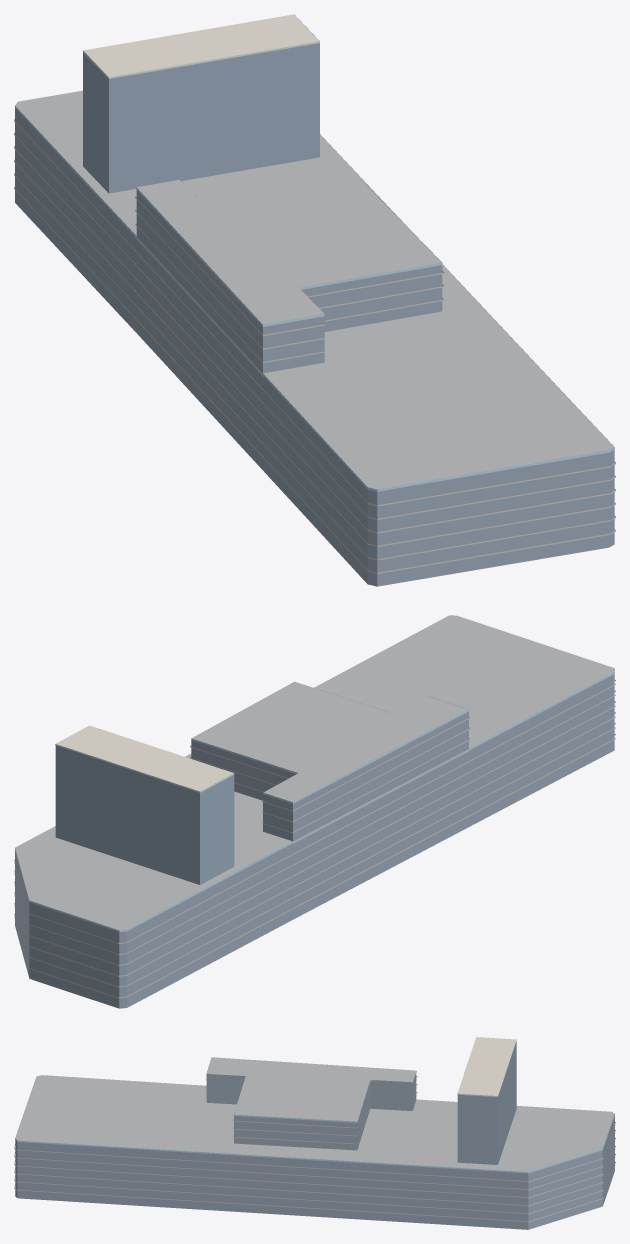
File: mbk.glb
3 renders of one model, top to bottom at view 1: azimuth 30°, elevation 25°; view 2: azimuth 150°, elevation 25°; view 3: azimuth 270°, elevation 25°, orthographic. The views are drawn at different scales.
Parts seen in each view (by area): view 1: mbk; view 2: mbk; view 3: mbk.
Part boxes in pixels (<box>): mbk: <box>14,14,615,586</box>; mbk: <box>14,615,615,1008</box>; mbk: <box>14,1037,615,1229</box>.
Bounding box in the file's own units: 130 × 79.01 × 340.
